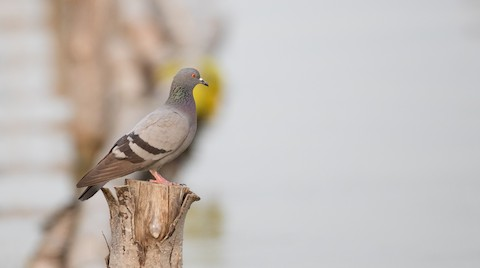pigeon: (74, 62, 214, 207)
